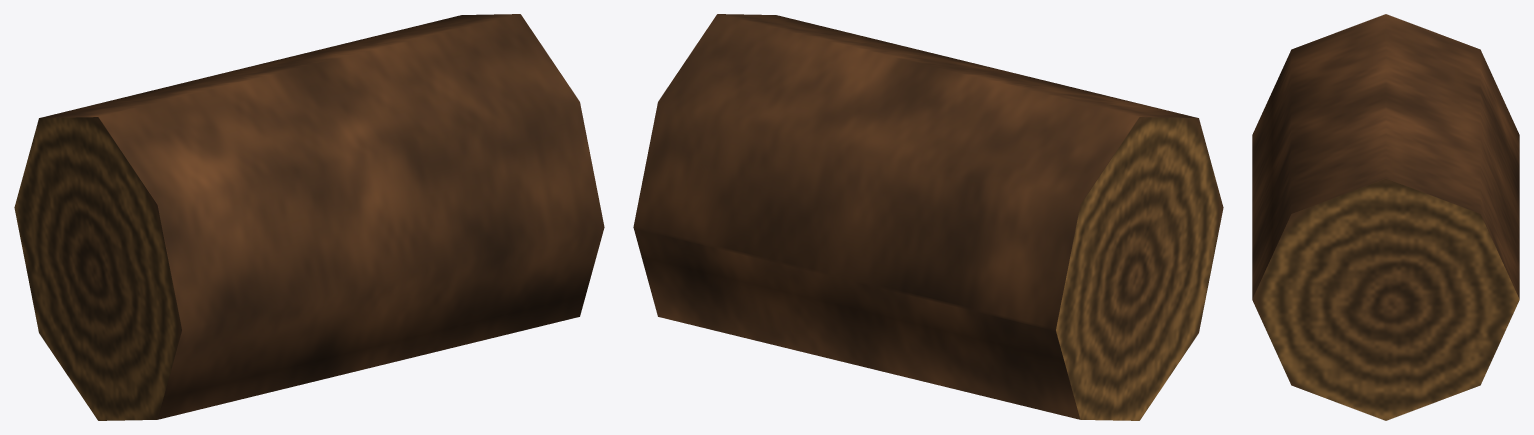
The model's file is wood.glb.
The picture shows the model from 3 angles, left to right: view 1: azimuth 30°, elevation 25°; view 2: azimuth 150°, elevation 25°; view 3: azimuth 270°, elevation 25°; orthographic projection. The views are drawn at different scales.
Visible parts, largest first — view 1: wood; view 2: wood; view 3: wood.
Boxes of the visible parts, x1,y1,x2,y2 form: wood: [14, 14, 604, 420]; wood: [633, 14, 1223, 420]; wood: [1252, 14, 1519, 420].
Bounding box in the file's own units: 0.32 × 0.22 × 0.22.
2 materials, 2 textured.
